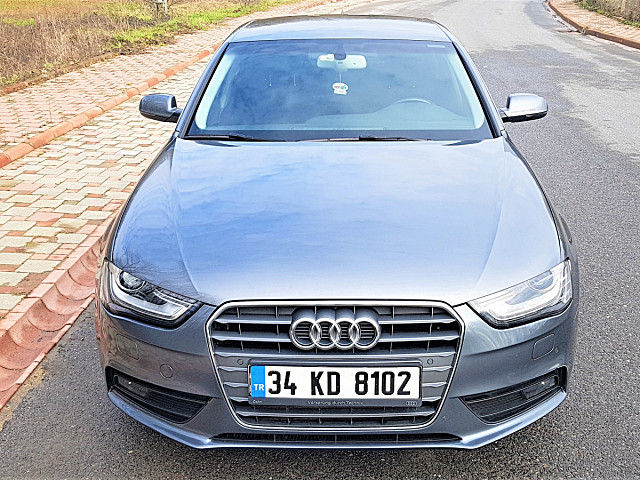audi: (283, 309, 385, 355)
